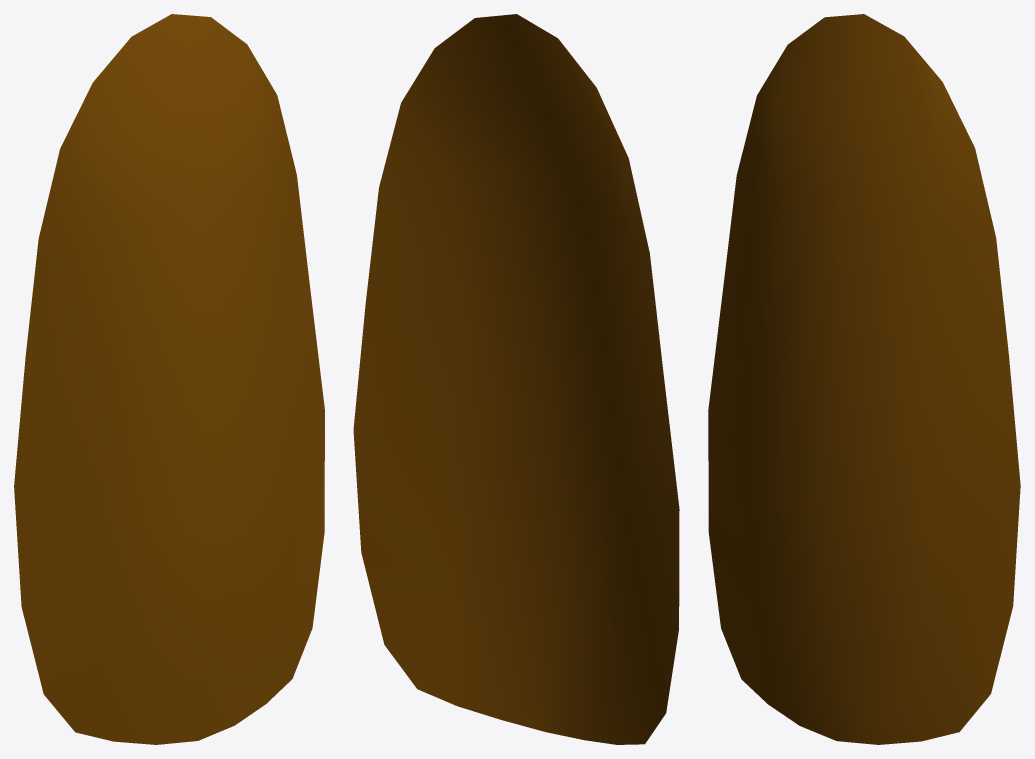
Rendered from MD_nail_oval_HandL.Index.fbx.
3 renders of one model, left to right at view 1: azimuth 30°, elevation 25°; view 2: azimuth 150°, elevation 25°; view 3: azimuth 330°, elevation 25°, orthographic. The views are drawn at different scales.
Parts seen in each view (by area): view 1: MD_nail_oval_HandL.Index; view 2: MD_nail_oval_HandL.Index; view 3: MD_nail_oval_HandL.Index.
Boxes of the visible parts, box(x1,y1,x2,y2) form: MD_nail_oval_HandL.Index: box(14, 14, 324, 744); MD_nail_oval_HandL.Index: box(353, 14, 679, 744); MD_nail_oval_HandL.Index: box(708, 14, 1020, 744).
Size of the model in its own units: 0.7282 by 1.58 by 0.1554.
